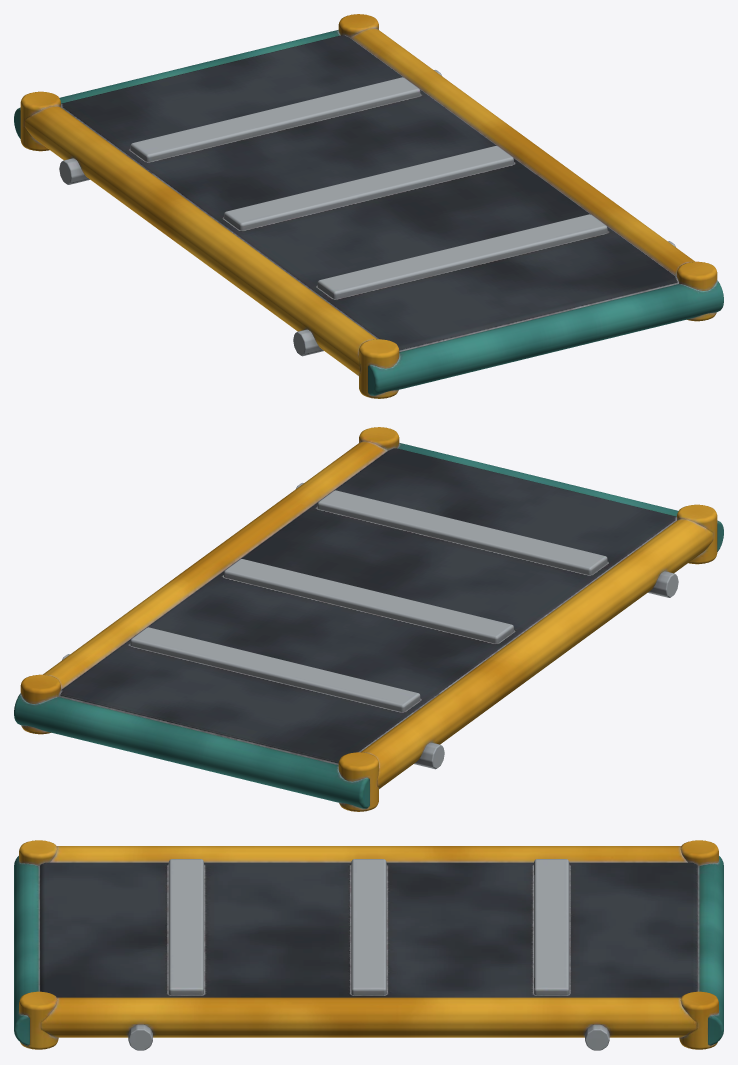
The model's file is chassis-v001.glb.
3 renders of one model, top to bottom at view 1: azimuth 30°, elevation 25°; view 2: azimuth 150°, elevation 25°; view 3: azimuth 270°, elevation 25°, orthographic. The views are drawn at different scales.
Parts seen in each view (by area): view 1: Chassis; view 2: Chassis; view 3: Chassis.
Part boxes in pixels (<box>): Chassis: <box>14,14,723,398</box>; Chassis: <box>14,427,723,811</box>; Chassis: <box>14,840,723,1050</box>.
Size of the model in its own units: 1.2 by 0.1399 by 2.02.
Materials: 1 (1 with a texture image).
